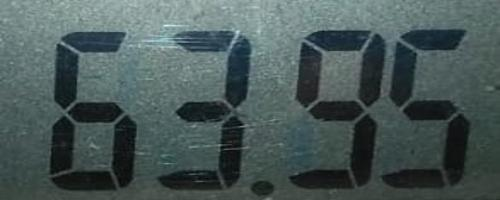.: (246, 179, 279, 198)
